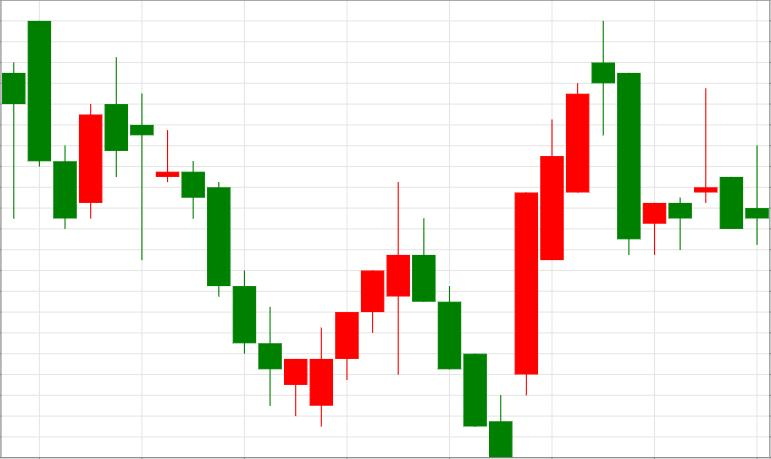evening_star_fall: (515, 20, 641, 398)
three_white_soldiers_rise: (182, 161, 384, 428)
